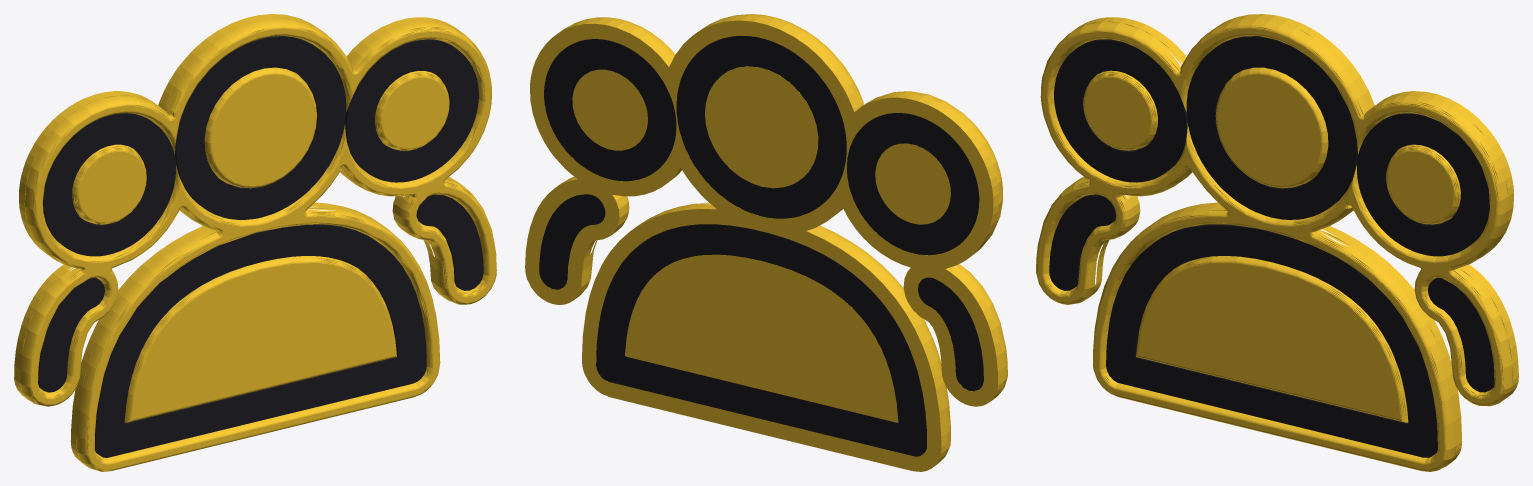
Rendered from buddies_t3.glb.
3 renders of one model, left to right at view 1: azimuth 30°, elevation 25°; view 2: azimuth 150°, elevation 25°; view 3: azimuth 330°, elevation 25°, orthographic.
Visible parts, largest first — view 1: mark, mark_channel; view 2: mark, mark_channel; view 3: mark, mark_channel.
Boxes of the visible parts, x1=… form: mark: x1=14, y1=14, x2=496, y2=471; mark_channel: x1=38, y1=36, x2=483, y2=457; mark: x1=525, y1=14, x2=1007, y2=471; mark_channel: x1=539, y1=35, x2=983, y2=456; mark: x1=1036, y1=14, x2=1518, y2=471; mark_channel: x1=1049, y1=36, x2=1494, y2=457.
Size of the model in its own units: 0.4999 by 0.4148 by 0.024.
